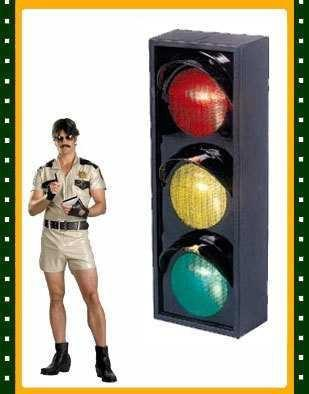5: (153, 49, 234, 137)
9: (156, 142, 235, 229)
red traffic light: (158, 233, 238, 327)
